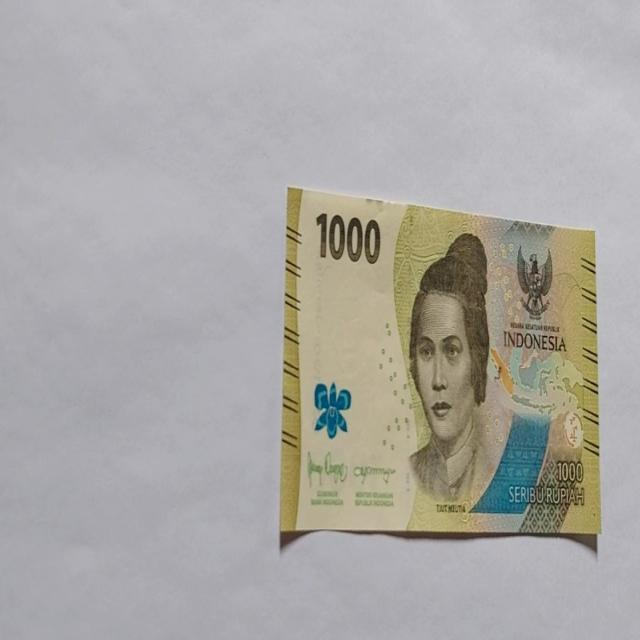seribu rupiah kertas: (280, 185, 600, 539)
